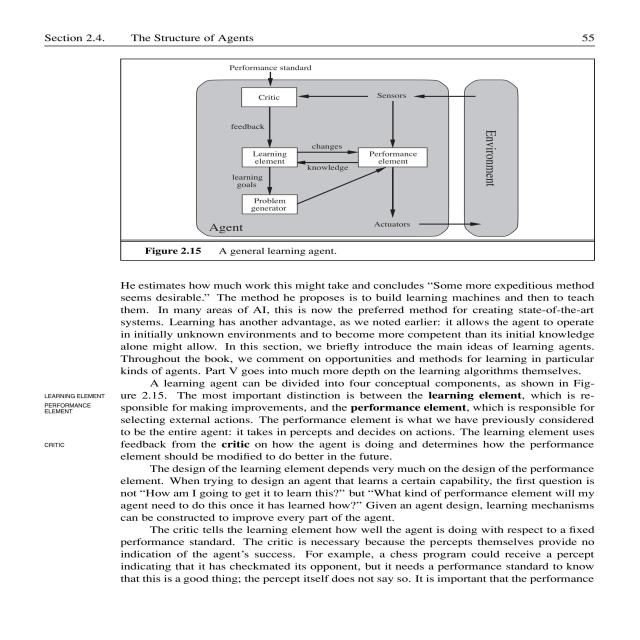diagram: (121, 58, 524, 262)
